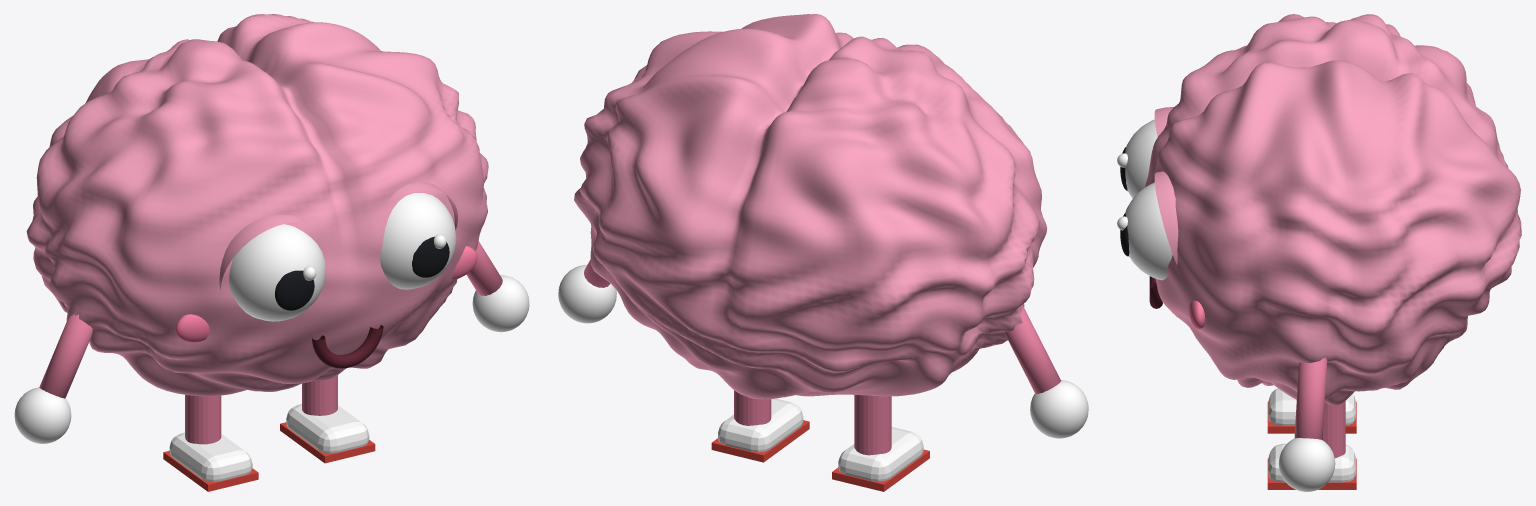
File: cerebro.glb
3 views of the same model, side by side, from view 1: azimuth 30°, elevation 25°; view 2: azimuth 150°, elevation 25°; view 3: azimuth 270°, elevation 25° (orthographic). The views are drawn at different scales.
Parts seen in each view (by area): view 1: cuerpo, Sphere.004, brazo_i, Sphere, brazo_d, Cube.002, Cube, Cylinder, boca, parpado_i, Cylinder.001, Sphere.005 (+5 smaller); view 2: cuerpo, brazo_i, brazo_d, Cube, Cube.002, Cylinder, Cylinder.001, Cube.003, Cube.001; view 3: cuerpo, brazo_d, Sphere, Sphere.004, parpado_d, Cube, Cube.002, Cylinder.001, Cube.003, Cube.001.
Part boxes in pixels (box(x1,y1,x2,y2)): cuerpo: box(26, 14, 488, 396); Sphere.004: box(229, 224, 325, 321); brazo_i: box(14, 313, 92, 443); Sphere: box(380, 193, 456, 289); brazo_d: box(466, 241, 529, 332); Cube.002: box(286, 404, 369, 453); Cube: box(169, 432, 252, 481); Cylinder: box(185, 395, 221, 444); boca: box(312, 325, 383, 368); parpado_i: box(219, 214, 309, 290); Cylinder.001: box(302, 375, 337, 415); Sphere.005: box(275, 270, 314, 310); cuerpo: box(574, 14, 1047, 399); brazo_i: box(1004, 305, 1088, 438); brazo_d: box(558, 259, 616, 323); Cube: box(838, 427, 923, 481); Cube.002: box(718, 398, 803, 452); Cylinder: box(854, 395, 891, 455); Cylinder.001: box(734, 390, 771, 425); Cube.003: box(711, 420, 809, 462); Cube.001: box(832, 449, 929, 491); cuerpo: box(1145, 14, 1521, 405); brazo_d: box(1278, 357, 1335, 491); Sphere: box(1125, 182, 1172, 280); Sphere.004: box(1125, 119, 1157, 198); parpado_d: box(1154, 171, 1178, 264); Cube: box(1268, 388, 1355, 425); Cube.002: box(1268, 443, 1355, 482); Cylinder.001: box(1322, 401, 1345, 458); Cube.003: box(1267, 458, 1356, 489); Cube.001: box(1267, 402, 1356, 433).
Size of the model in its own units: 2.26 by 1.76 by 1.57.
